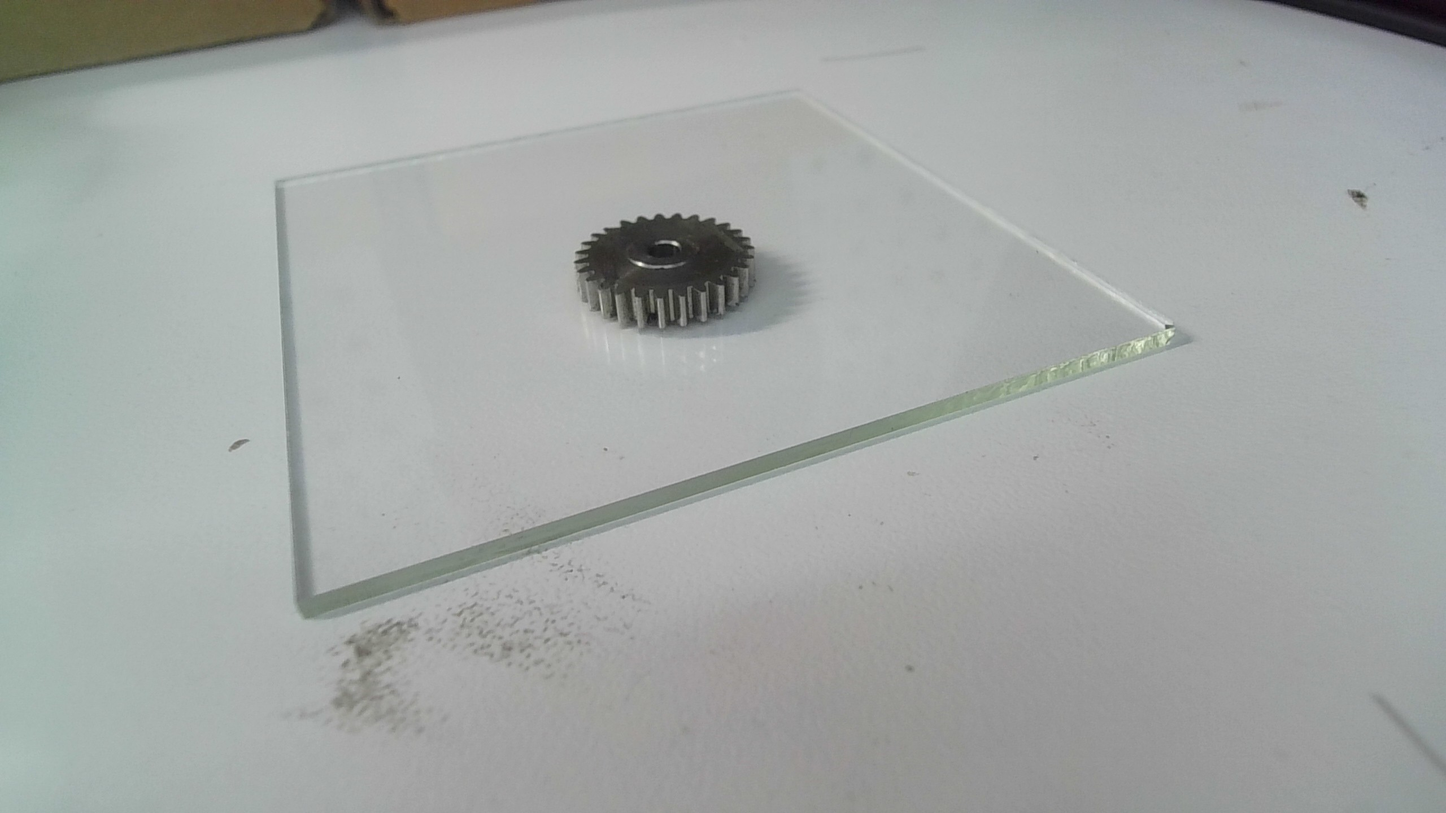gear: (568, 209, 759, 336)
